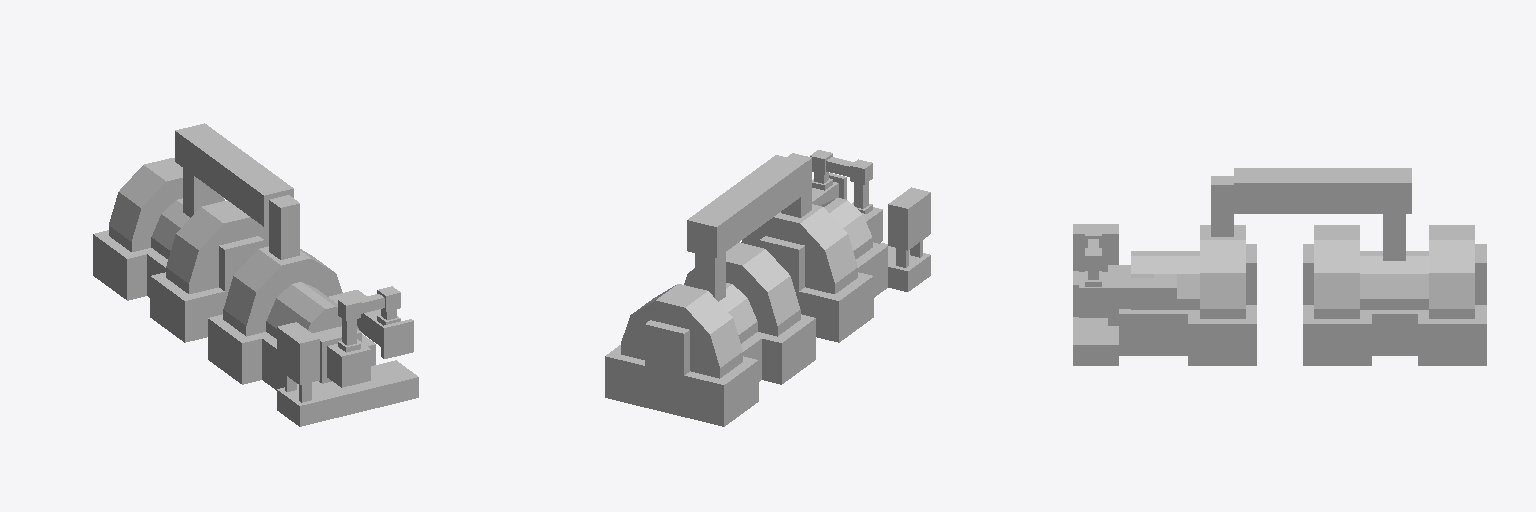
The model's file is steam_turbine.obj.
3 renders of one model, left to right at view 1: azimuth 30°, elevation 25°; view 2: azimuth 150°, elevation 25°; view 3: azimuth 270°, elevation 25°, orthographic.
Parts seen in each view (by area): view 1: base; view 2: base; view 3: base.
Part boxes in pixels (x1,y1,x2,y2): base: (93,123,418,426); base: (605,150,930,426); base: (1073,168,1486,365).
Size of the model in its own units: 3 by 3.88 by 9.